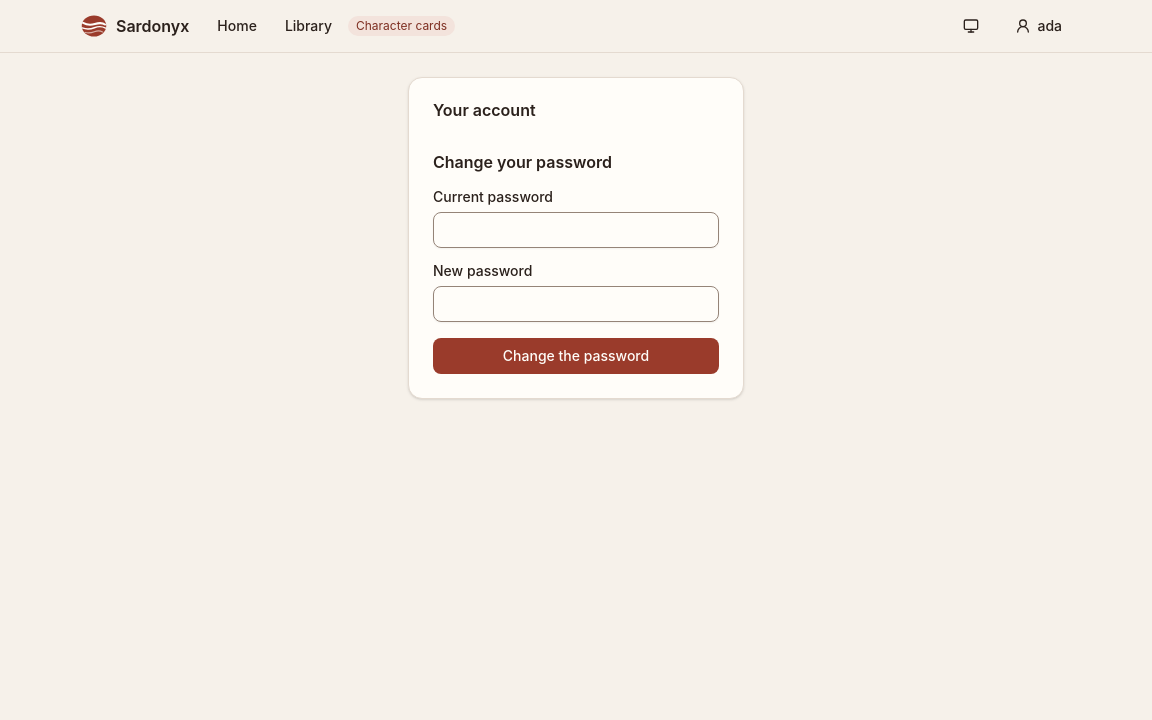
Test case: the account page › changes nothing with a wrong current password, and keeps the session
Type "wrong-pass" into the password field labelled "Current password" at (576, 230), box [433,212,719,248]
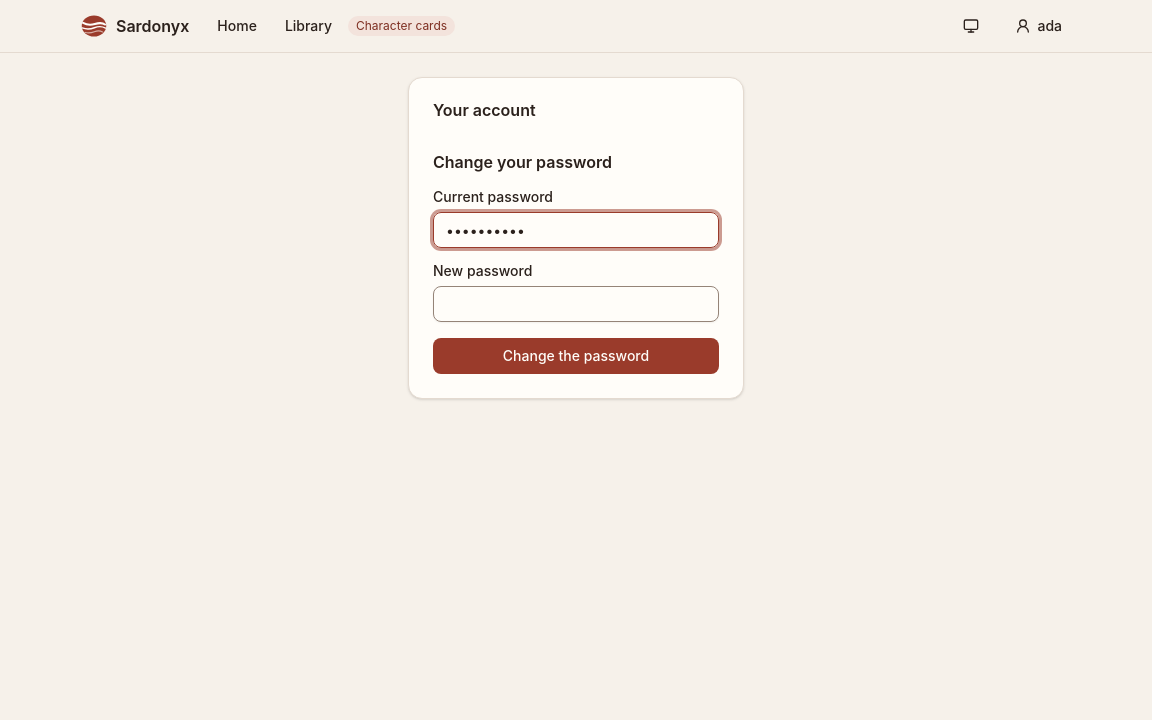
Type "brand-new" into the password field labelled "New password" at (576, 304), box [433,286,719,322]
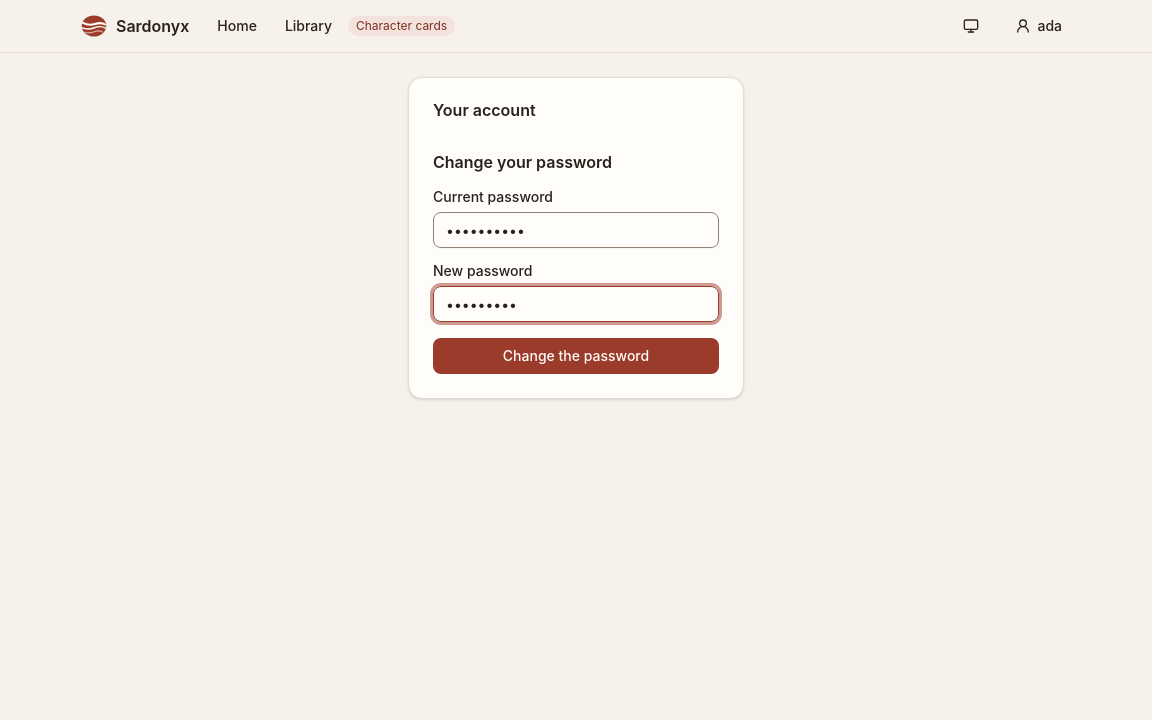
Click the button "Change the password" at (576, 356), box [433,338,719,374]
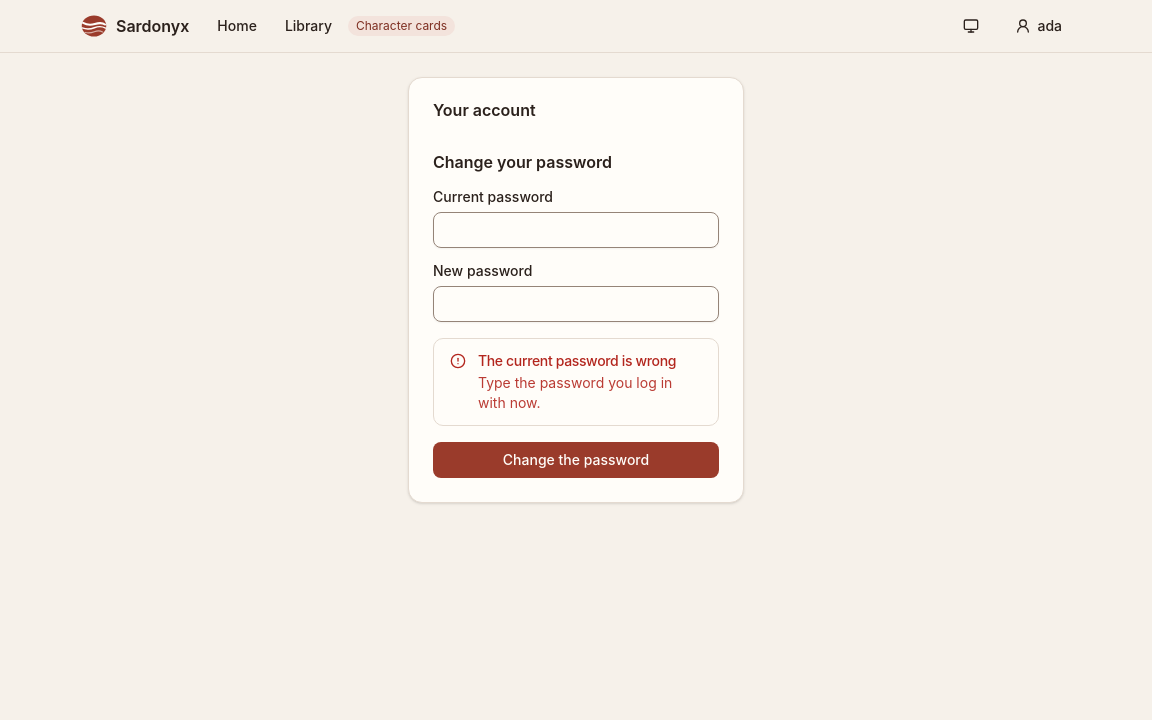
Expected: the button "ada" is shown, [1005,10,1072,42]
Now the text "The current password is wrong" is shown, box [478,351,702,371]
